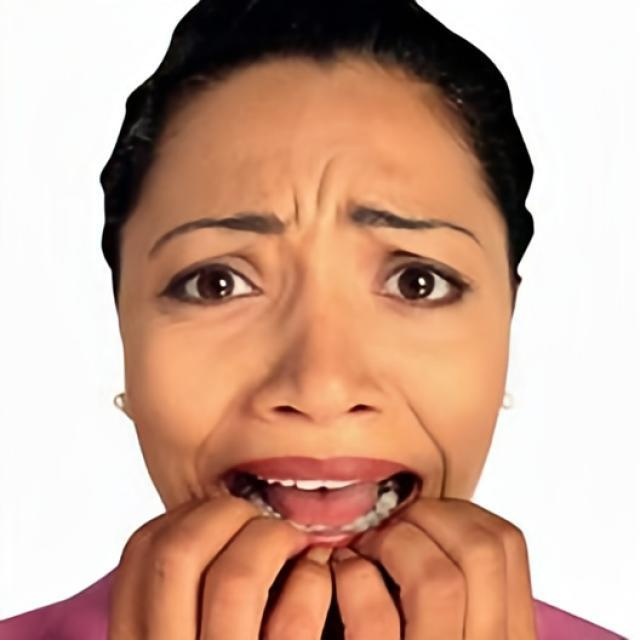Fear: (116, 43, 516, 640)
